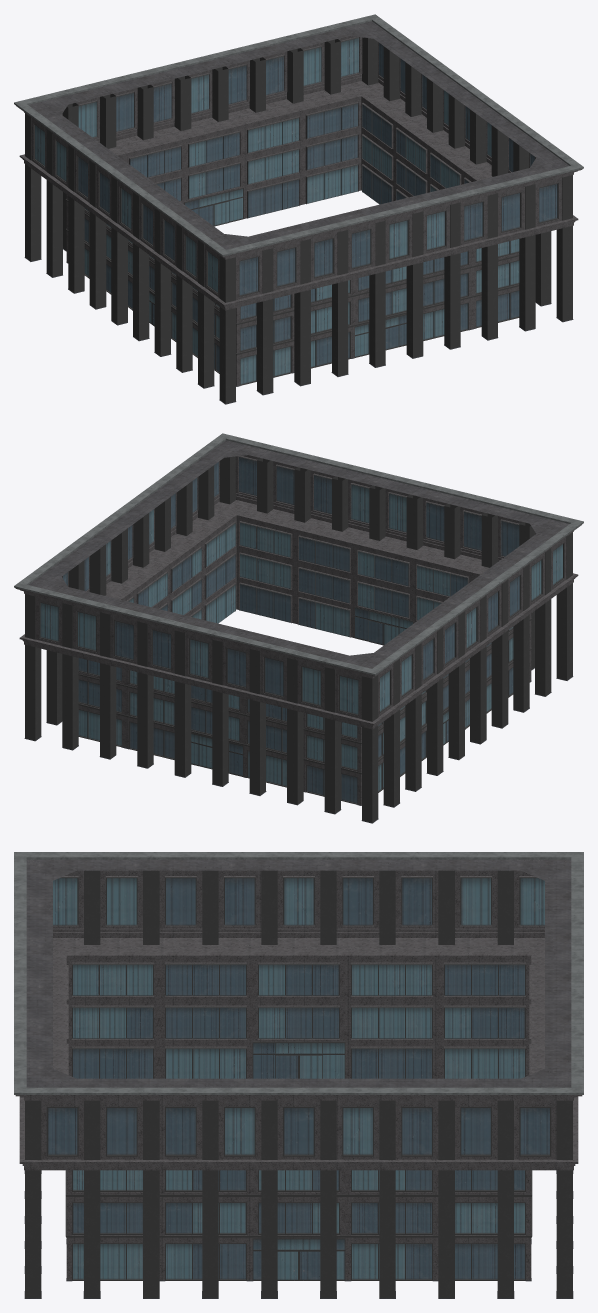
Rendered from jctBld50D_btm.fbx.
The picture shows the model from 3 angles, top to bottom: view 1: azimuth 30°, elevation 25°; view 2: azimuth 150°, elevation 25°; view 3: azimuth 270°, elevation 25°; orthographic projection. The views are drawn at different scales.
Parts seen in each view (by area): view 1: jctBld50D_btm_LOD0; view 2: jctBld50D_btm_LOD0; view 3: jctBld50D_btm_LOD0.
Boxes of the visible parts, left/top/right/bottom form: jctBld50D_btm_LOD0: left=14, top=14, right=583, bottom=404; jctBld50D_btm_LOD0: left=14, top=433, right=583, bottom=823; jctBld50D_btm_LOD0: left=14, top=852, right=583, bottom=1298.
Bounding box in the file's own units: 5210 × 2121 × 5210.
